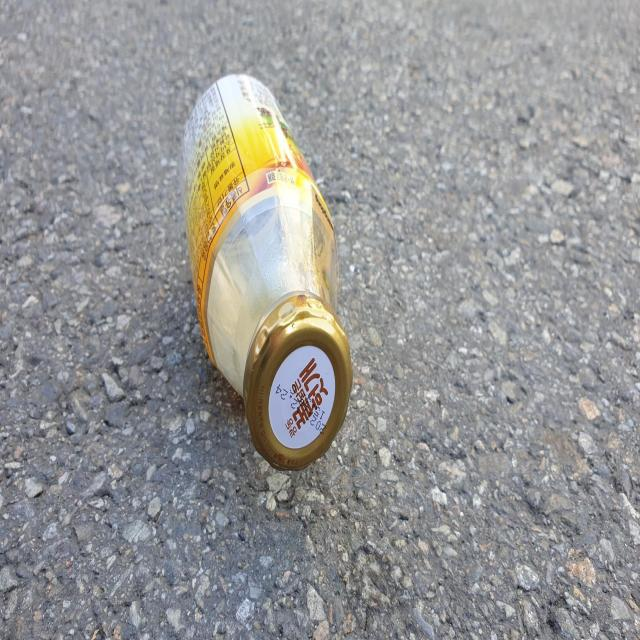glass: (181, 73, 353, 469)
